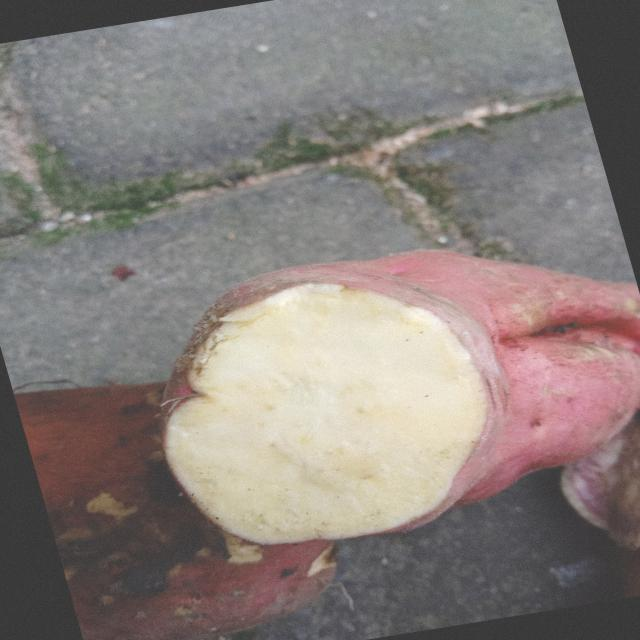Healthy Sweet Potato: (165, 284, 487, 544)
